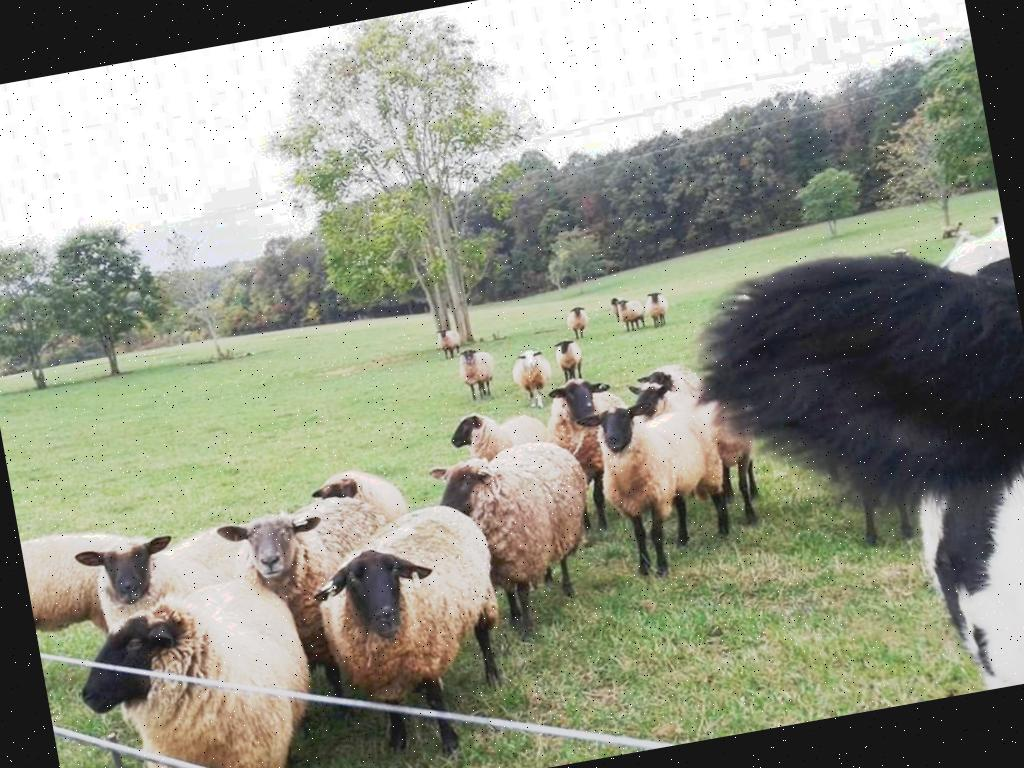Sheep: (68, 568, 331, 768), (313, 504, 519, 746), (216, 486, 420, 712), (421, 434, 614, 656), (588, 390, 742, 558), (76, 518, 261, 642), (20, 519, 162, 646), (539, 374, 643, 536), (443, 398, 552, 468), (508, 348, 556, 410), (455, 345, 497, 397), (552, 337, 586, 385), (610, 294, 646, 334), (644, 290, 672, 328), (564, 302, 592, 339), (434, 327, 464, 361)
